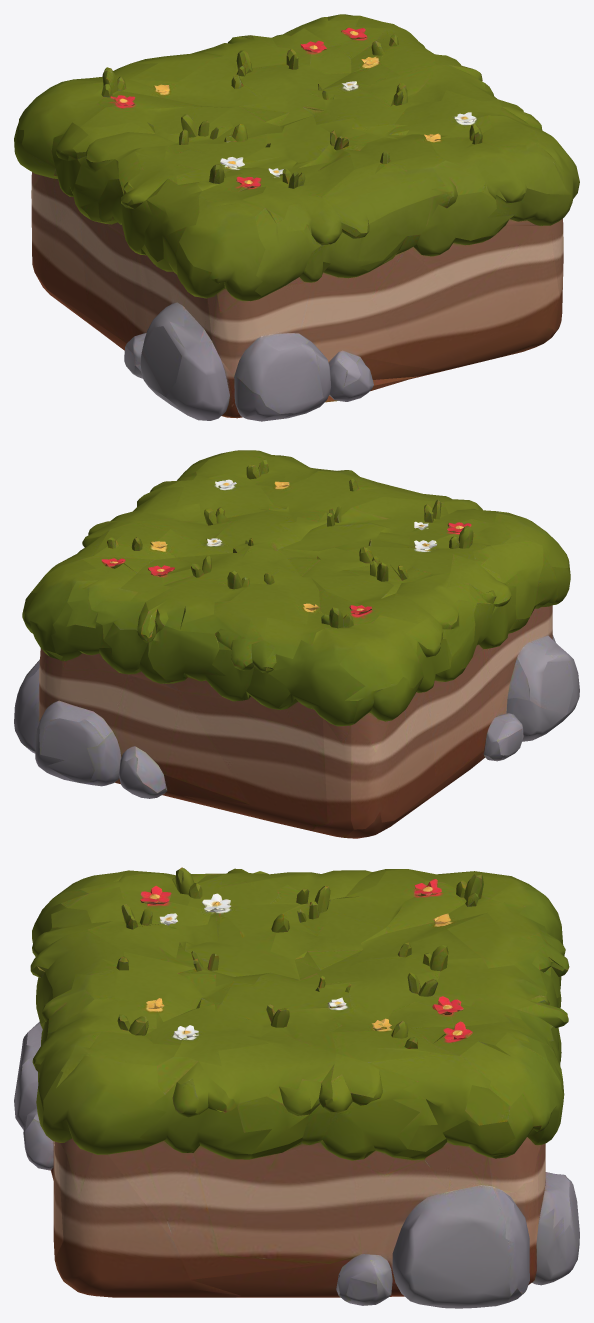
The model's file is t_grass.fbx.
3 views of the same model, one above another, from view 1: azimuth 30°, elevation 25°; view 2: azimuth 150°, elevation 25°; view 3: azimuth 270°, elevation 25° (orthographic). The views are drawn at different scales.
Visible parts, largest first — view 1: Mesh_0; view 2: Mesh_0; view 3: Mesh_0.
Part boxes in pixels (bbox=[...]): Mesh_0: bbox=[14, 14, 579, 421]; Mesh_0: bbox=[14, 450, 579, 838]; Mesh_0: bbox=[14, 867, 579, 1308].
Bounding box in the file's own units: 1.9 × 0.9664 × 1.88.
1 material, 1 textured.
